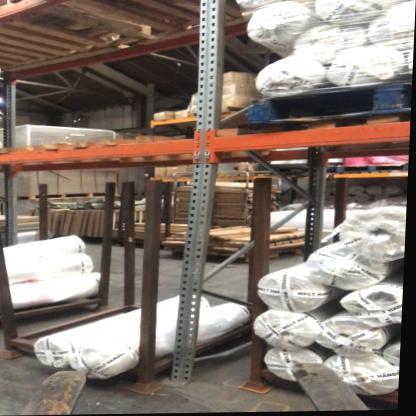vertical_damage: (168, 350, 205, 392)
